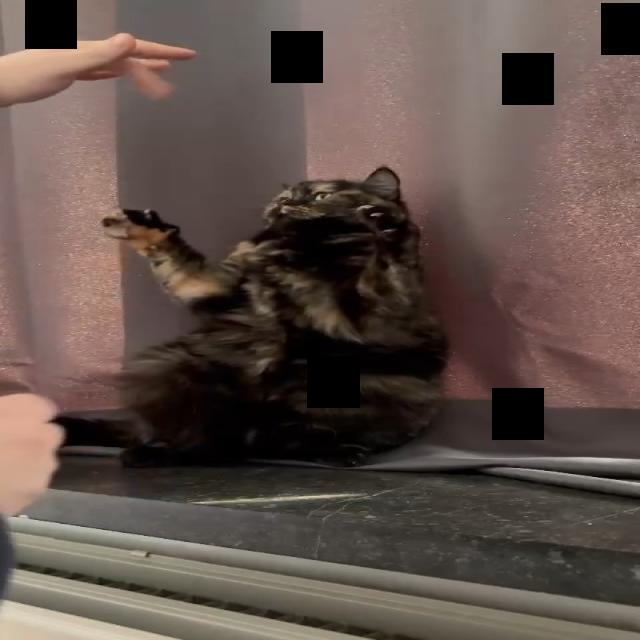authorized: (48, 164, 451, 468)
